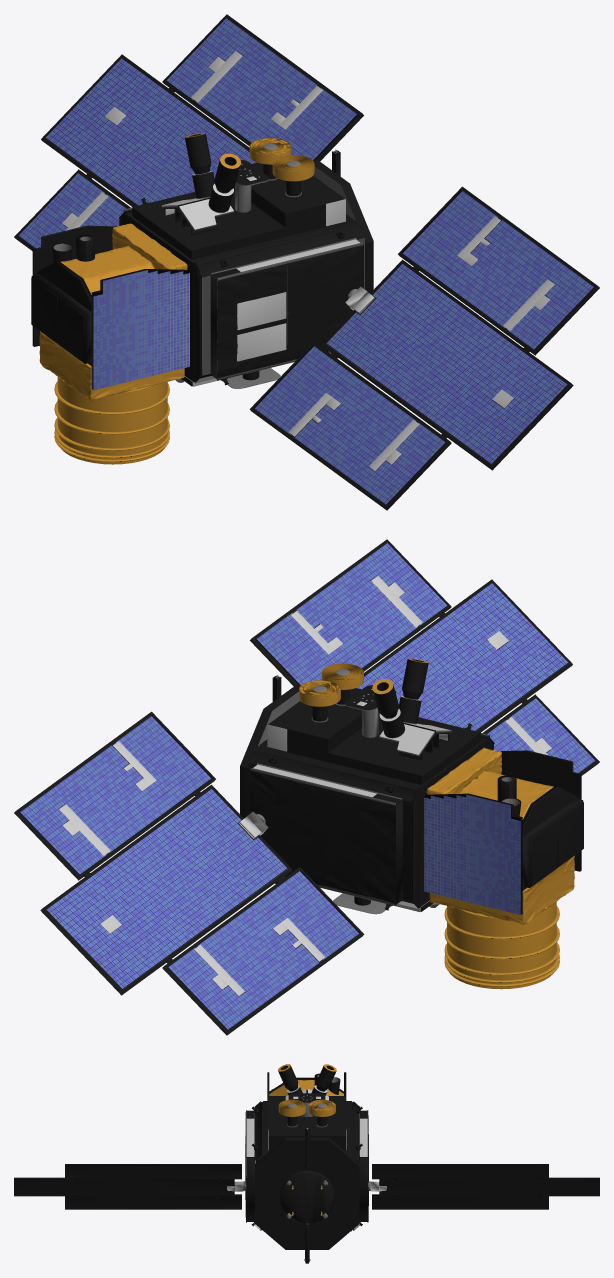
File: Ice, Clouds, and Land Elevation Satellite.fbx
3 views of the same model, one above another, from view 1: azimuth 30°, elevation 25°; view 2: azimuth 150°, elevation 25°; view 3: azimuth 270°, elevation 25° (orthographic). The views are drawn at different scales.
Visible parts, largest first — view 1: Mesh (×9); view 2: Mesh (×9); view 3: Mesh (×6).
Boxes of the visible parts, <box> form: Mesh (×9): <box>14,14,599,510</box>; Mesh (×9): <box>14,539,599,1035</box>; Mesh (×6): <box>14,1064,599,1263</box>.
Size of the model in its own units: 80.68 by 59.55 by 176.
Materials: 9 (1 with a texture image).
